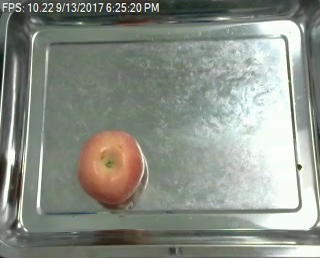Apple: (74, 128, 149, 205)
